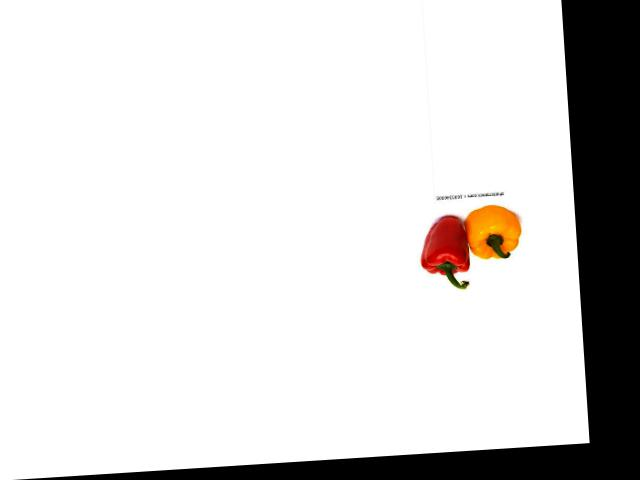bell_pepper: (461, 198, 525, 265)
